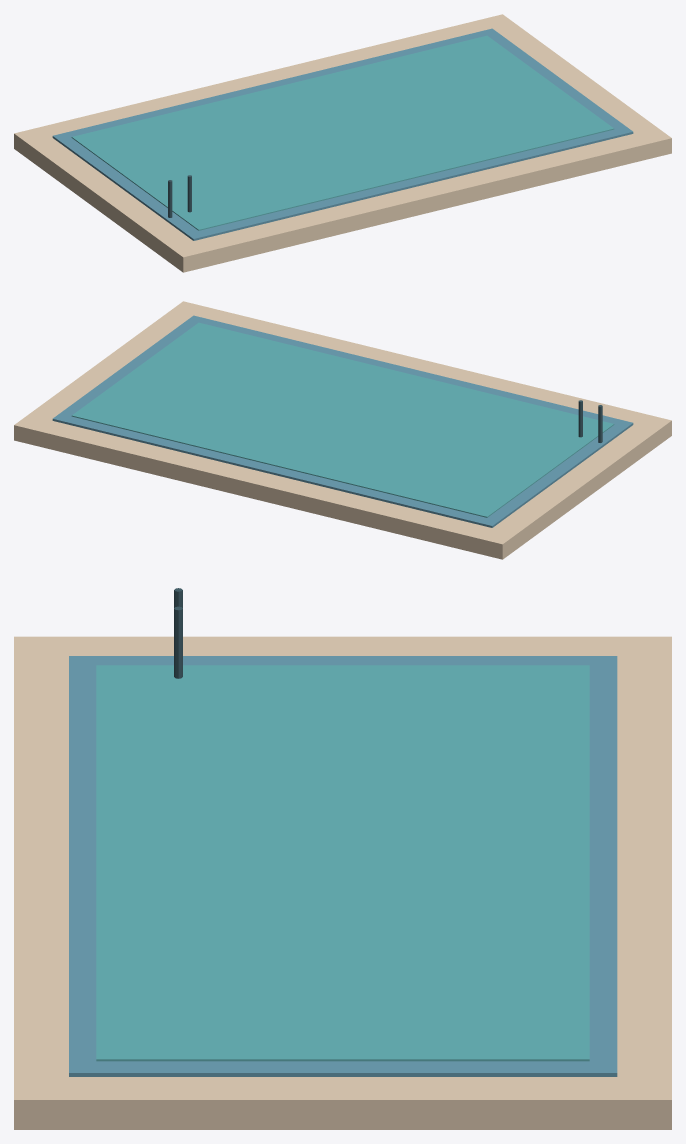
The model's file is pool.obj.
3 views of the same model, one above another, from view 1: azimuth 30°, elevation 25°; view 2: azimuth 150°, elevation 25°; view 3: azimuth 270°, elevation 25° (orthographic). The views are drawn at different scales.
Visible parts, largest first — view 1: pool; view 2: pool; view 3: pool.
Part boxes in pixels (<box>): pool: <box>14,14,671,272</box>; pool: <box>14,301,671,559</box>; pool: <box>14,588,671,1129</box>.
Size of the model in its own units: 10 by 1.05 by 6.
